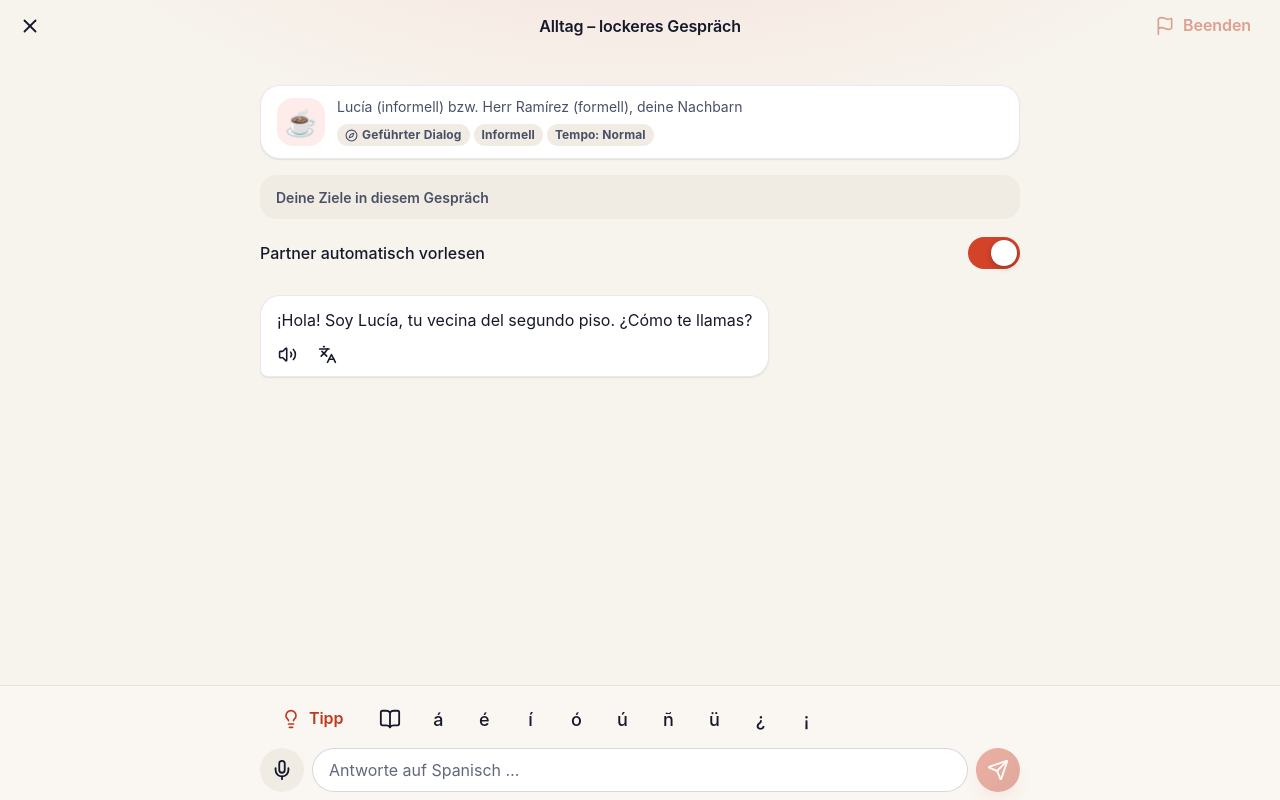
Test: Sprachpartner (Smoke) › führt einen Offline-Dialog, wertet aus und speichert das Gespräch
Expected: the text "Soy Lucía" is shown, [277, 310, 752, 330]
Type "Hola, me llamo Tom" into the text box named "Deine Antwort" at (640, 770), box [312, 748, 968, 792]
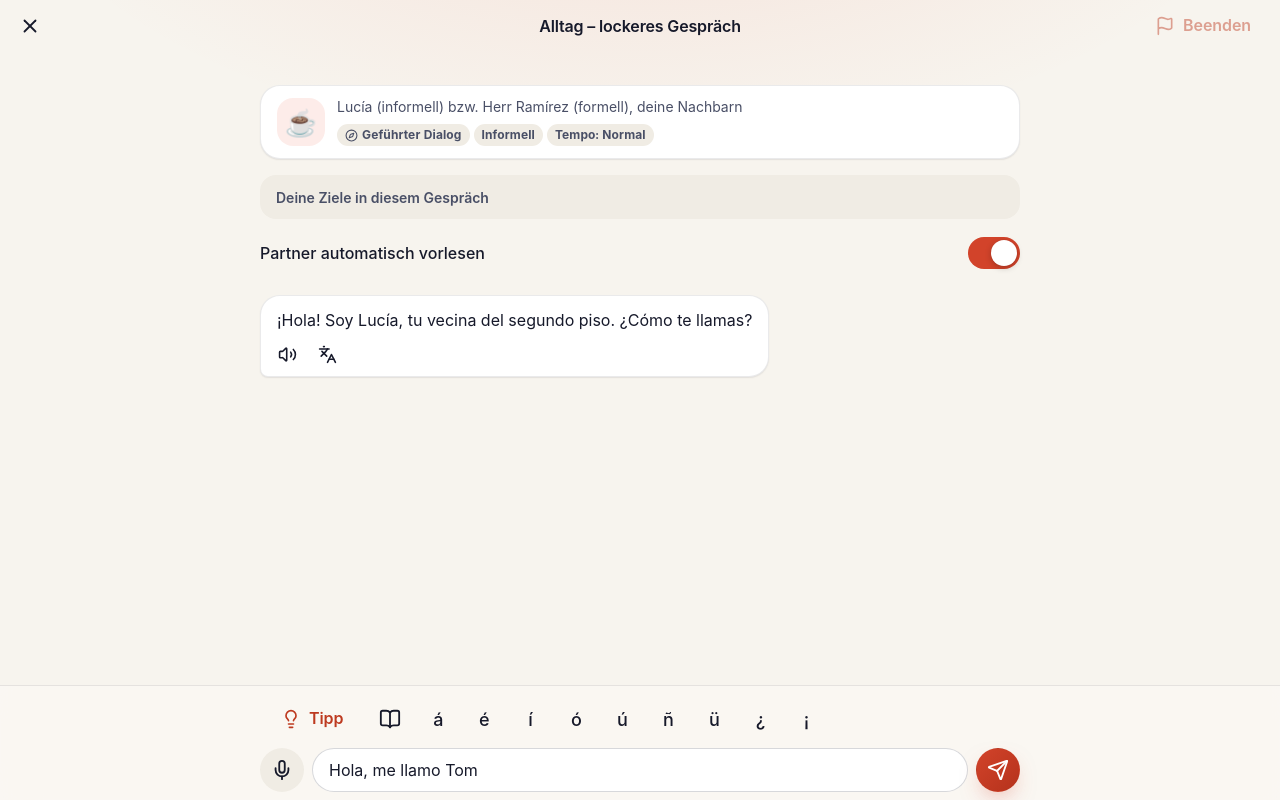
Click the button named "Senden" at (998, 770), box [976, 748, 1020, 792]
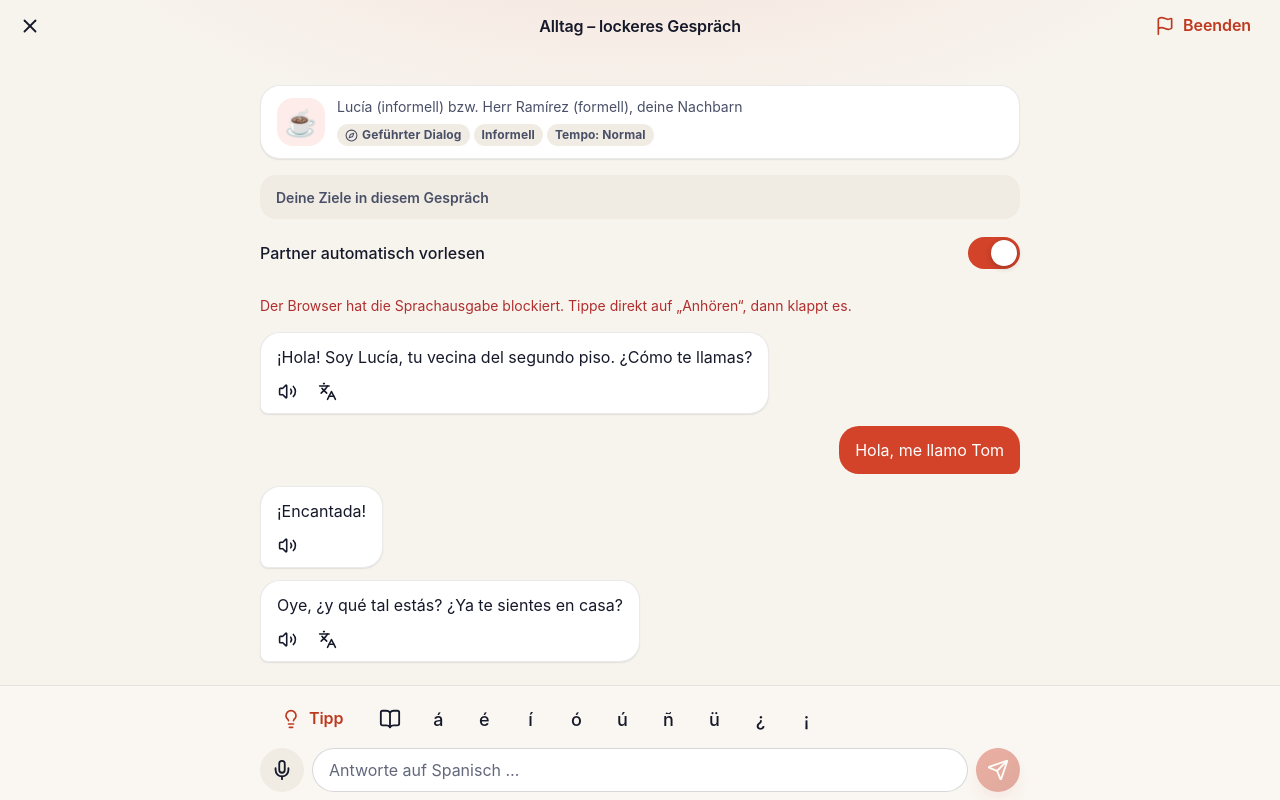
Expected: the text "¡Encantada!" is shown, [277, 499, 366, 523]
Type "Ich weiß nicht" into the text box named "Deine Antwort" at (640, 770), box [312, 748, 968, 792]
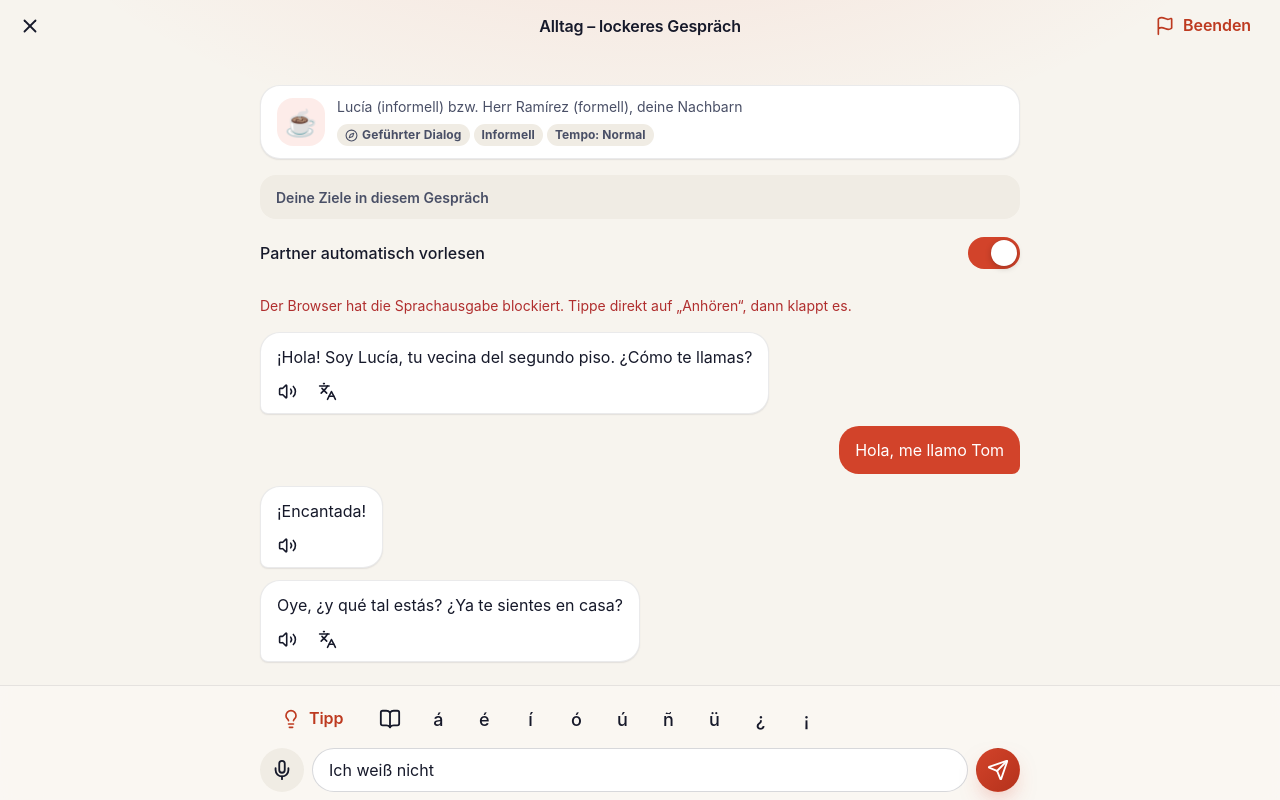
Press Enter in the text box named "Deine Antwort", box [312, 748, 968, 792]
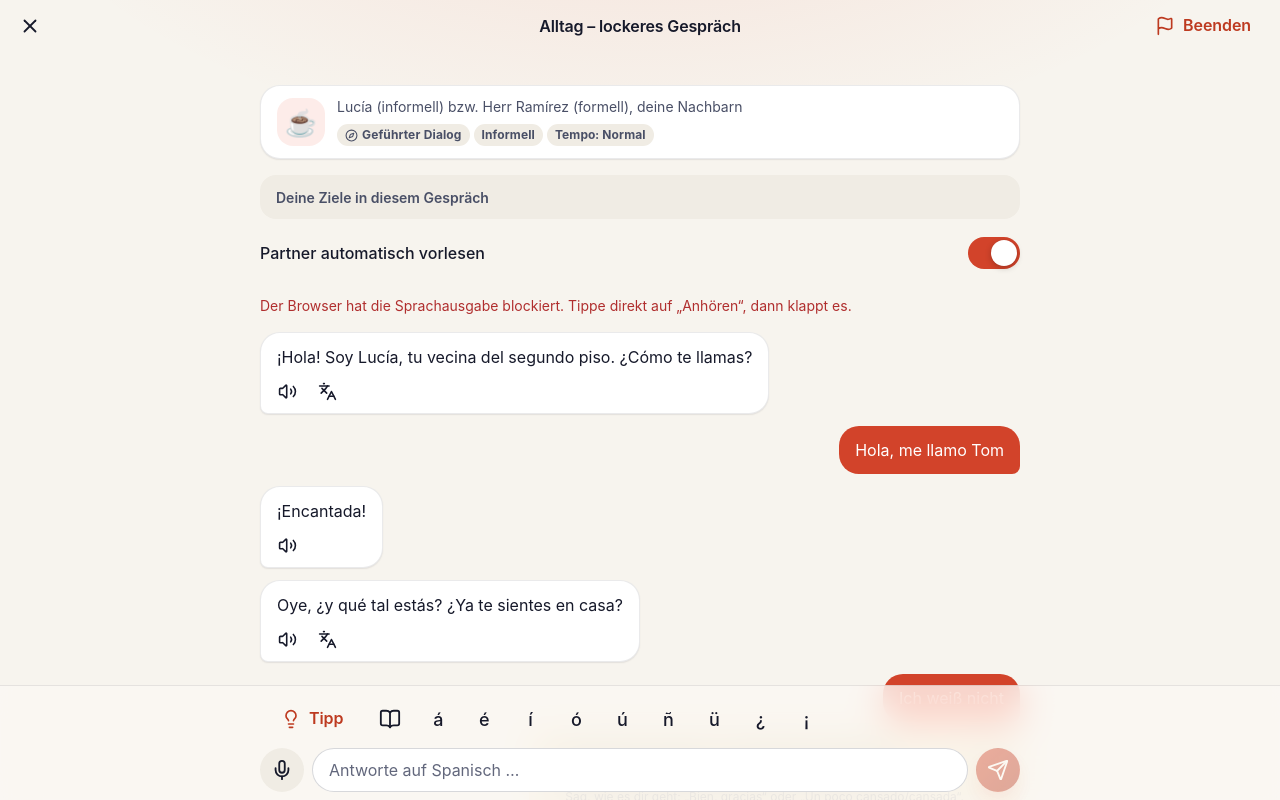
Expected: the text "Das passte nicht ganz – so könntest du antworten:" is shown, [565, 742, 898, 759]
Click the button "Beenden" at (1203, 26), box [1134, 1, 1272, 51]
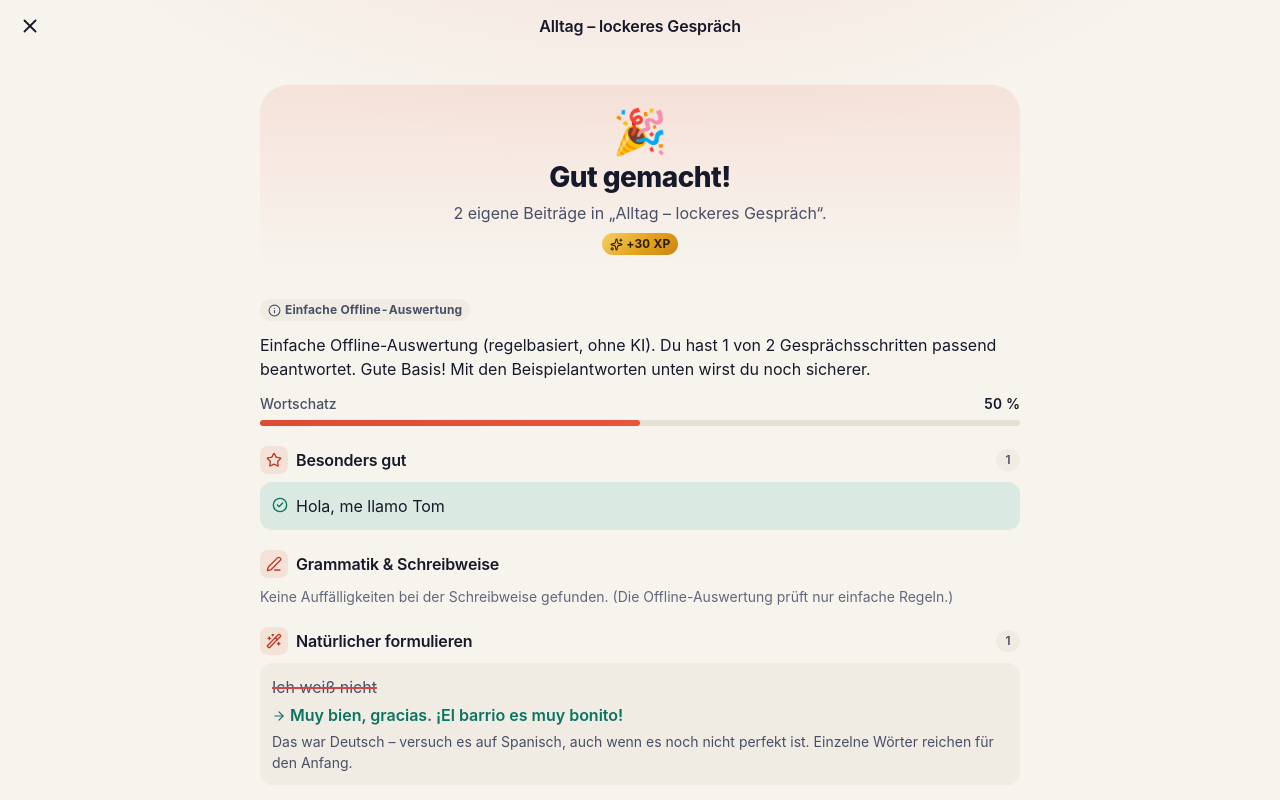
Expected: the heading "Gut gemacht!" is shown, [549, 161, 731, 193]
Expected: the text "Einfache Offline-Auswertung" is shown, [260, 299, 470, 321]
Expected: the text "+30 XP" is shown, [602, 233, 678, 255]
